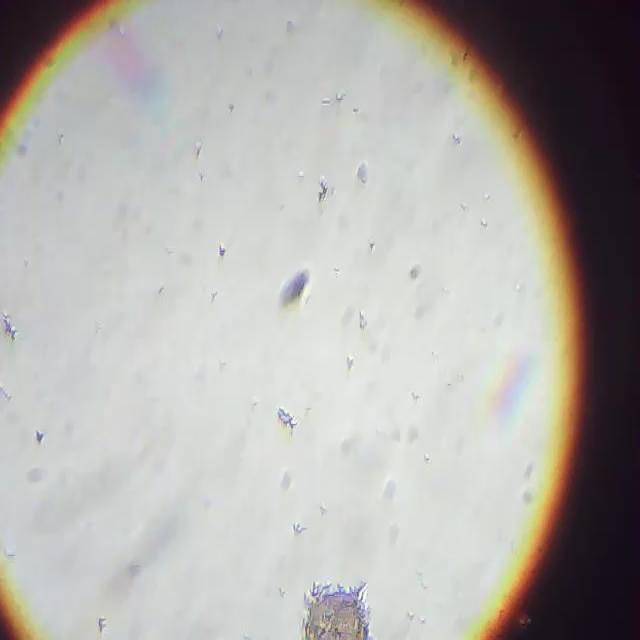alexandrium: (299, 584, 379, 638)
